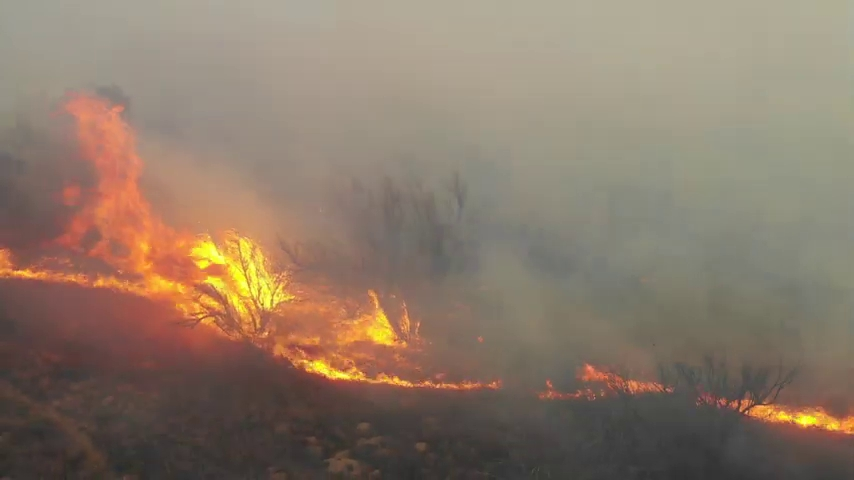forest_fire: (0, 95, 296, 337), (283, 348, 501, 389), (333, 290, 417, 348), (746, 405, 853, 434), (578, 364, 669, 393)
